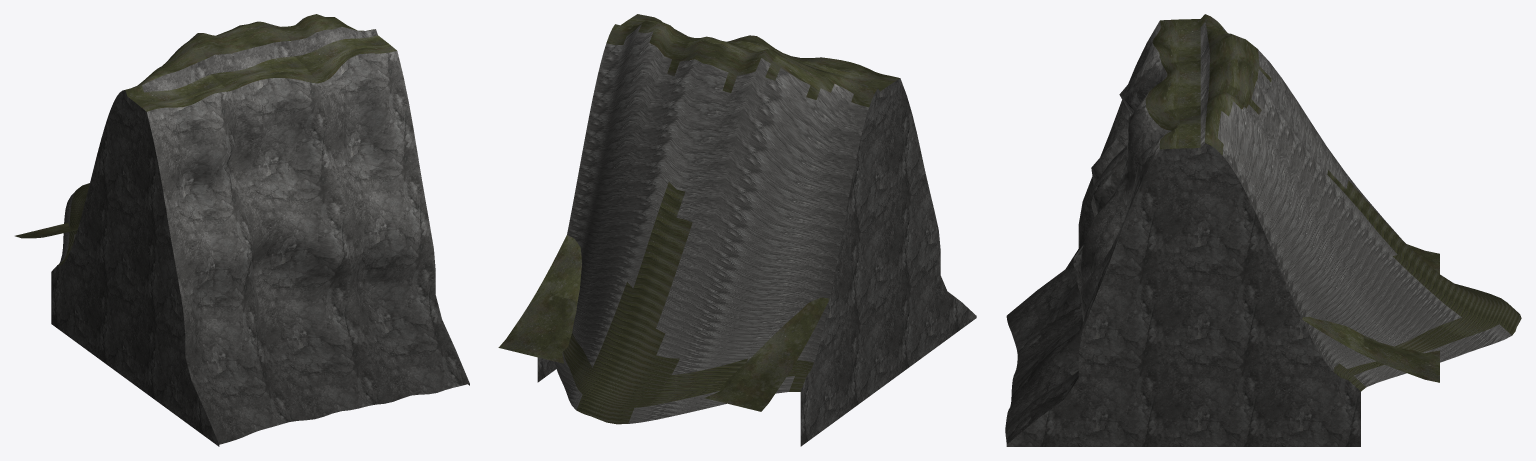
The model's file is seacliff_straight6b_h5_v5_summer.glb.
3 views of the same model, side by side, from view 1: azimuth 30°, elevation 25°; view 2: azimuth 150°, elevation 25°; view 3: azimuth 270°, elevation 25° (orthographic). The views are drawn at different scales.
Parts seen in each view (by area): view 1: seacliff_straight6b_h5; view 2: seacliff_straight6b_h5; view 3: seacliff_straight6b_h5.
Part boxes in pixels (x1=…): seacliff_straight6b_h5: x1=15, y1=14, x2=469, y2=446; seacliff_straight6b_h5: x1=498, y1=14, x2=976, y2=446; seacliff_straight6b_h5: x1=1005, y1=14, x2=1521, y2=446.
Size of the model in its own units: 6 by 7.16 by 10.14.
Materials: 2 (2 with a texture image).
